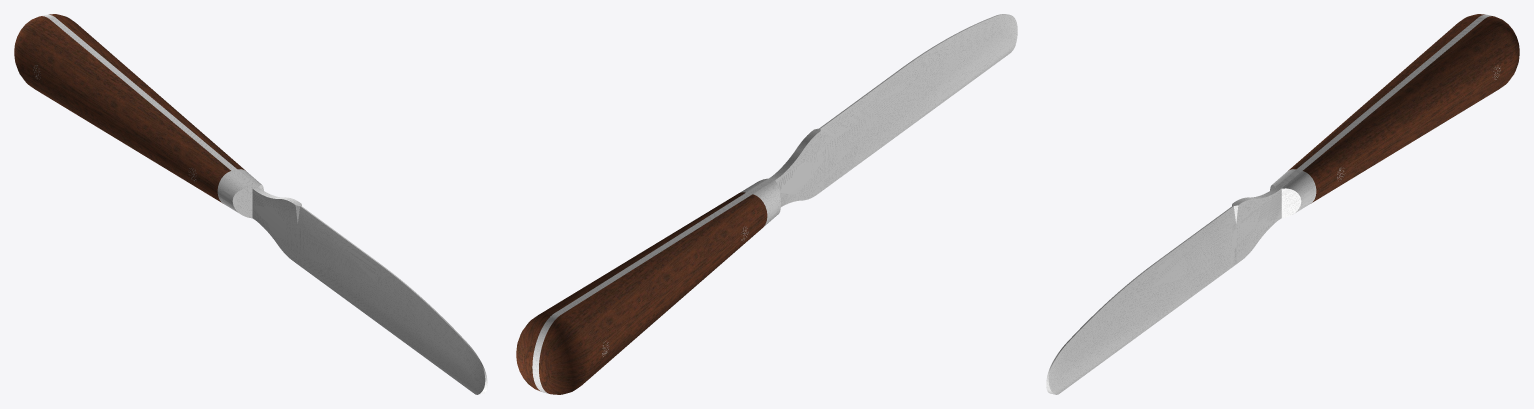
Rendered from model_scale.obj.
The picture shows the model from 3 angles, left to right: view 1: azimuth 30°, elevation 25°; view 2: azimuth 150°, elevation 25°; view 3: azimuth 330°, elevation 25°; orthographic projection. The views are drawn at different scales.
Visible parts, largest first — view 1: mesh1_mesh1-geometry, mesh3_mesh3-geometry; view 2: mesh1_mesh1-geometry, mesh3_mesh3-geometry; view 3: mesh1_mesh1-geometry, mesh3_mesh3-geometry.
Boxes of the visible parts, bbox=[...] form: mesh1_mesh1-geometry: bbox=[14, 14, 263, 218]; mesh3_mesh3-geometry: bbox=[42, 14, 487, 394]; mesh1_mesh1-geometry: bbox=[516, 178, 780, 394]; mesh3_mesh3-geometry: bbox=[532, 14, 1017, 393]; mesh1_mesh1-geometry: bbox=[1270, 14, 1519, 218]; mesh3_mesh3-geometry: bbox=[1046, 14, 1491, 394].
Bounding box in the file's own units: 0.019 × 0.0202 × 0.2317.
Materials: 4 (1 with a texture image).
